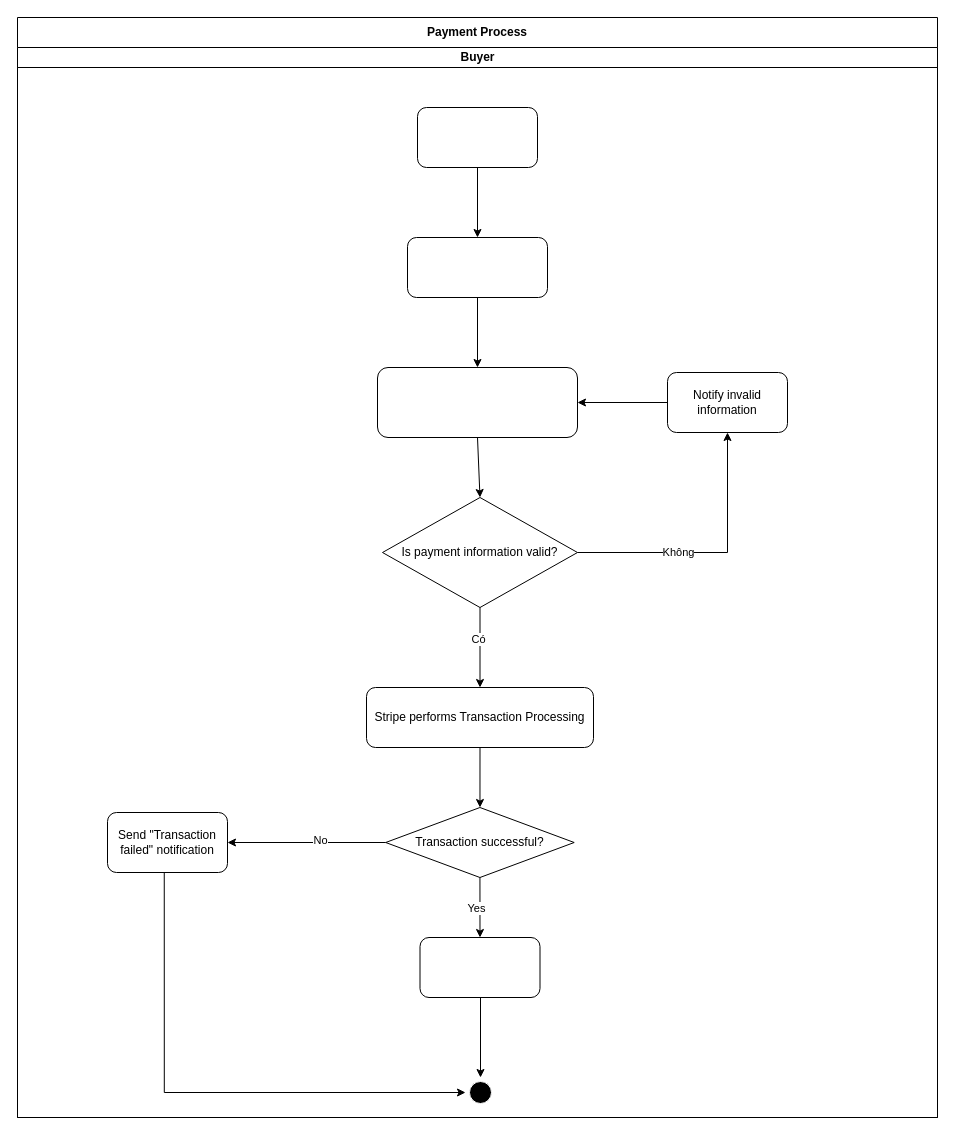
Image size: 955x1135. Some labels were removed from this diagram. Each missing label, with the box of its shape:
Buyer enters payment info based on the selected method: (376, 366, 578, 438)
Buyer initiates payment: (416, 106, 538, 168)
Buyer selects payment method: (406, 236, 548, 298)
Gửi phản hồi thành công: (419, 936, 540, 998)
